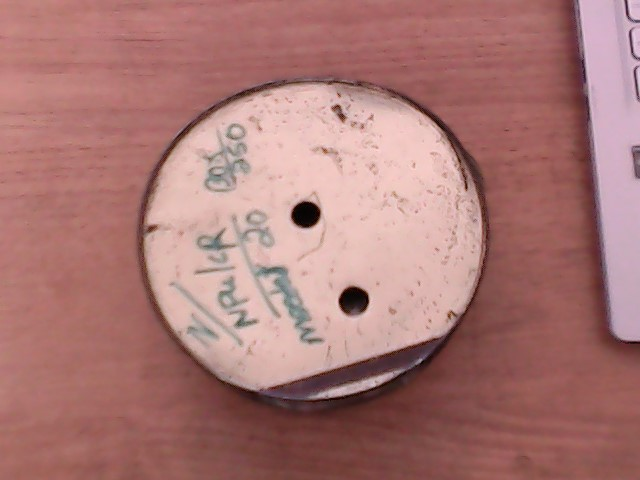Metal: (109, 51, 504, 424)
